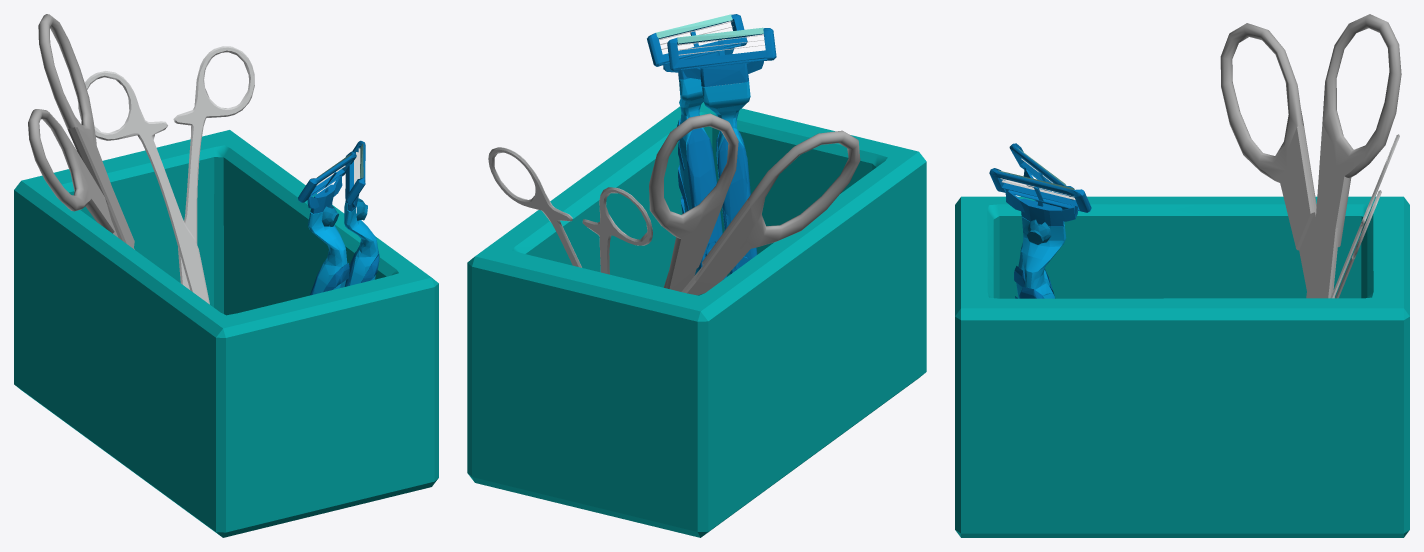
Rendered from caja_tijerasFBX.fbx.
3 renders of one model, left to right at view 1: azimuth 30°, elevation 25°; view 2: azimuth 150°, elevation 25°; view 3: azimuth 270°, elevation 25°, orthographic. The views are drawn at different scales.
Visible parts, largest first — view 1: pasted__cajatijeras1; view 2: pasted__cajatijeras1; view 3: pasted__cajatijeras1.
Boxes of the visible parts, box(x1,y1,x2,y2) form: pasted__cajatijeras1: box(14, 14, 438, 537); pasted__cajatijeras1: box(467, 14, 926, 537); pasted__cajatijeras1: box(955, 14, 1409, 537).
Bounding box in the file's own units: 2.35 × 2.99 × 2.97.
